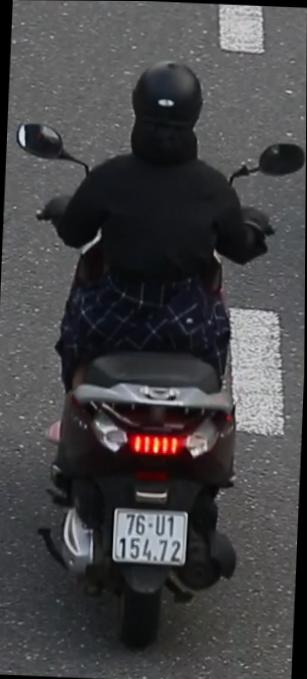LP: (109, 500, 193, 567)
helmet: (124, 52, 209, 167)
